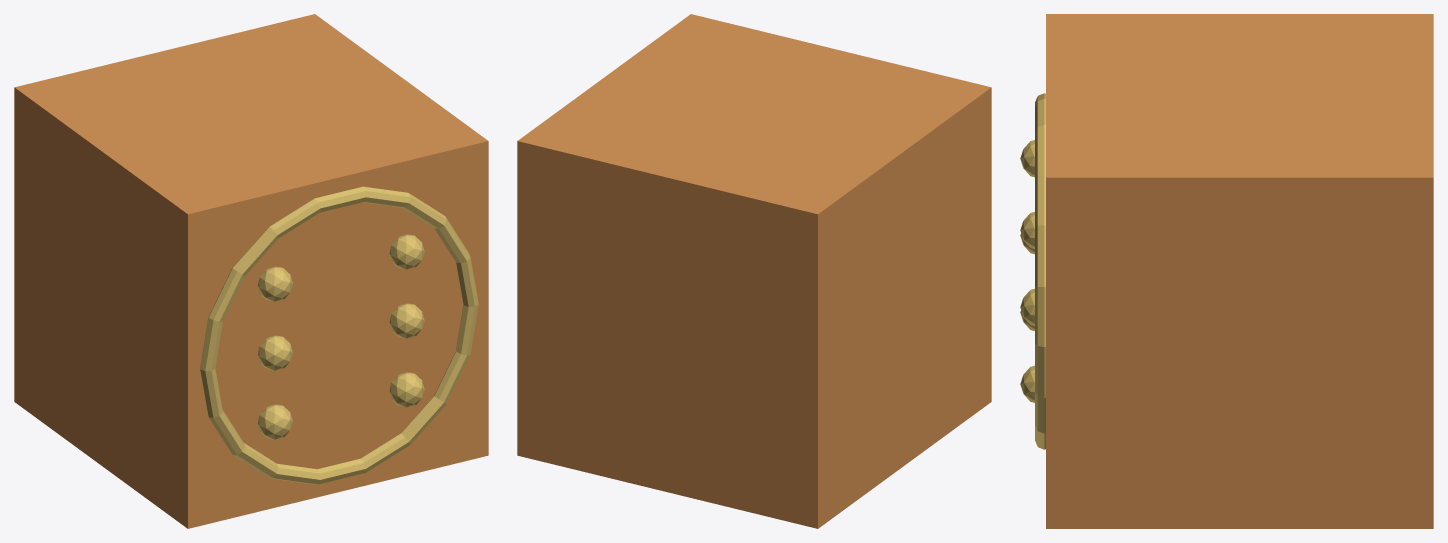
File: feuer.glb
3 renders of one model, left to right at view 1: azimuth 30°, elevation 25°; view 2: azimuth 150°, elevation 25°; view 3: azimuth 270°, elevation 25°, orthographic. The views are drawn at different scales.
Visible parts, largest first — view 1: world; view 2: world; view 3: world.
Boxes of the visible parts, x1=… form: world: x1=14, y1=14, x2=488, y2=528; world: x1=517, y1=14, x2=991, y2=528; world: x1=1020, y1=14, x2=1433, y2=528.
Bounding box in the file's own units: 1.05 × 1.05 × 1.12.
